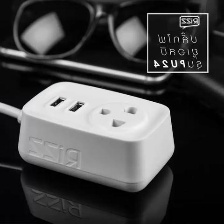three_eye_plug: (11, 73, 184, 195)
